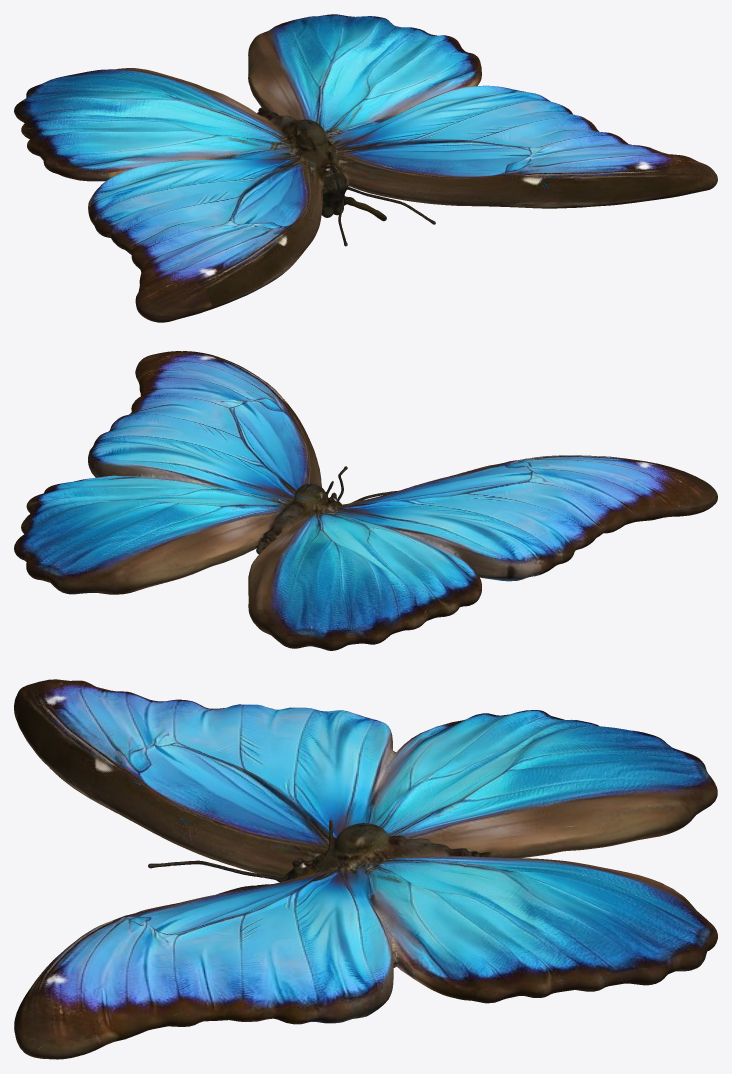
File: butterfly.glb
The picture shows the model from 3 angles, top to bottom: view 1: azimuth 30°, elevation 25°; view 2: azimuth 150°, elevation 25°; view 3: azimuth 270°, elevation 25°; orthographic projection. The views are drawn at different scales.
Parts seen in each view (by area): view 1: Mesh_0; view 2: Mesh_0; view 3: Mesh_0.
Part boxes in pixels (x1,y1,x2,y2): Mesh_0: (14, 14, 717, 322); Mesh_0: (14, 351, 717, 650); Mesh_0: (14, 679, 717, 1059).
Bounding box in the file's own units: 1.91 × 0.3182 × 1.55.
1 material, 1 textured.
